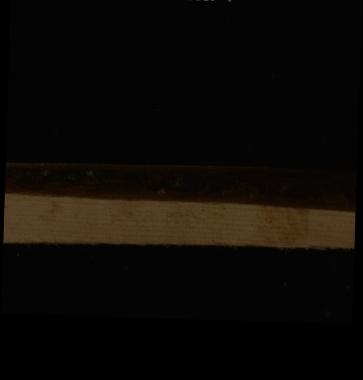wave: (3, 162, 355, 206)
